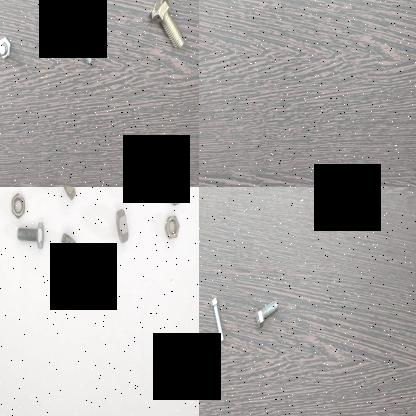Bolts: (147, 0, 185, 52), (68, 21, 96, 65), (206, 292, 226, 344), (252, 290, 278, 330), (14, 218, 44, 252), (38, 0, 63, 40), (0, 32, 13, 67), (122, 187, 148, 200)
NUTS: (115, 203, 129, 249), (9, 191, 27, 221), (59, 229, 79, 255), (162, 214, 180, 239), (166, 187, 184, 209), (60, 187, 74, 205)
